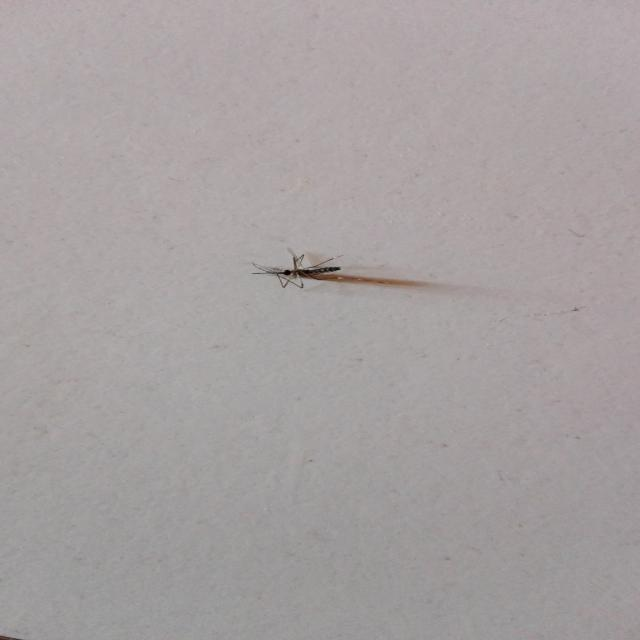albopictus: (243, 242, 362, 292)
